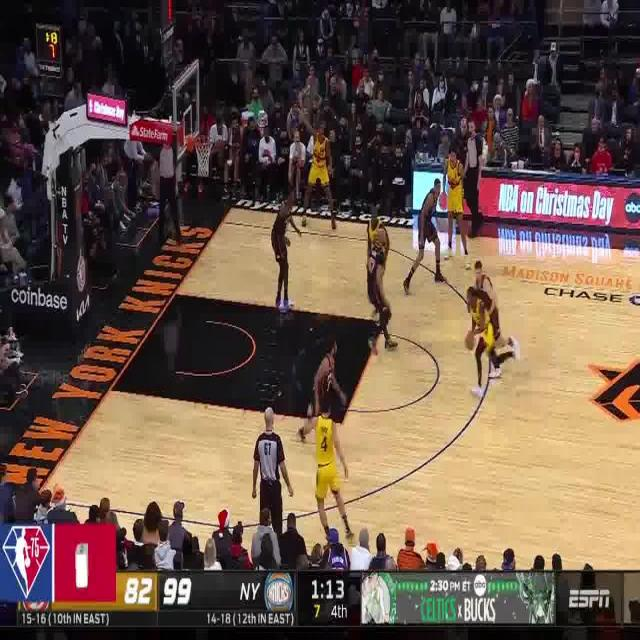ball-handler: (461, 286, 521, 404)
